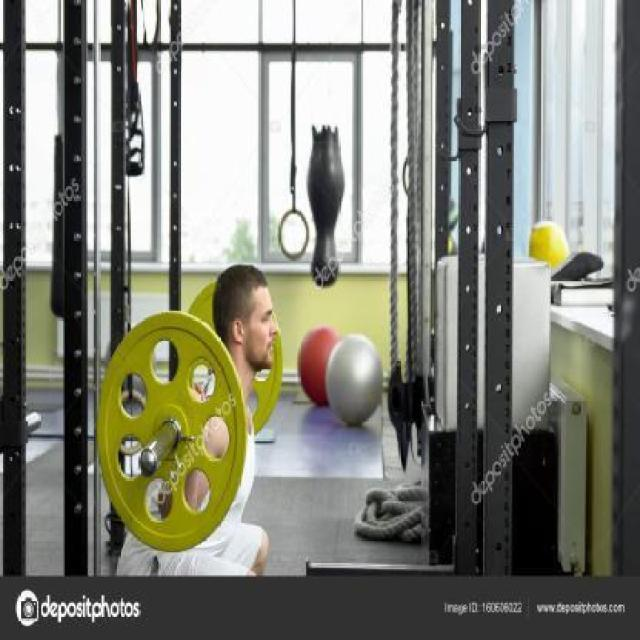barbell: (93, 304, 251, 557)
